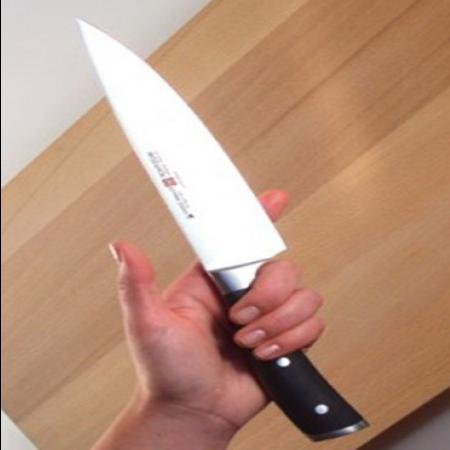long weapon: (63, 11, 319, 302)
